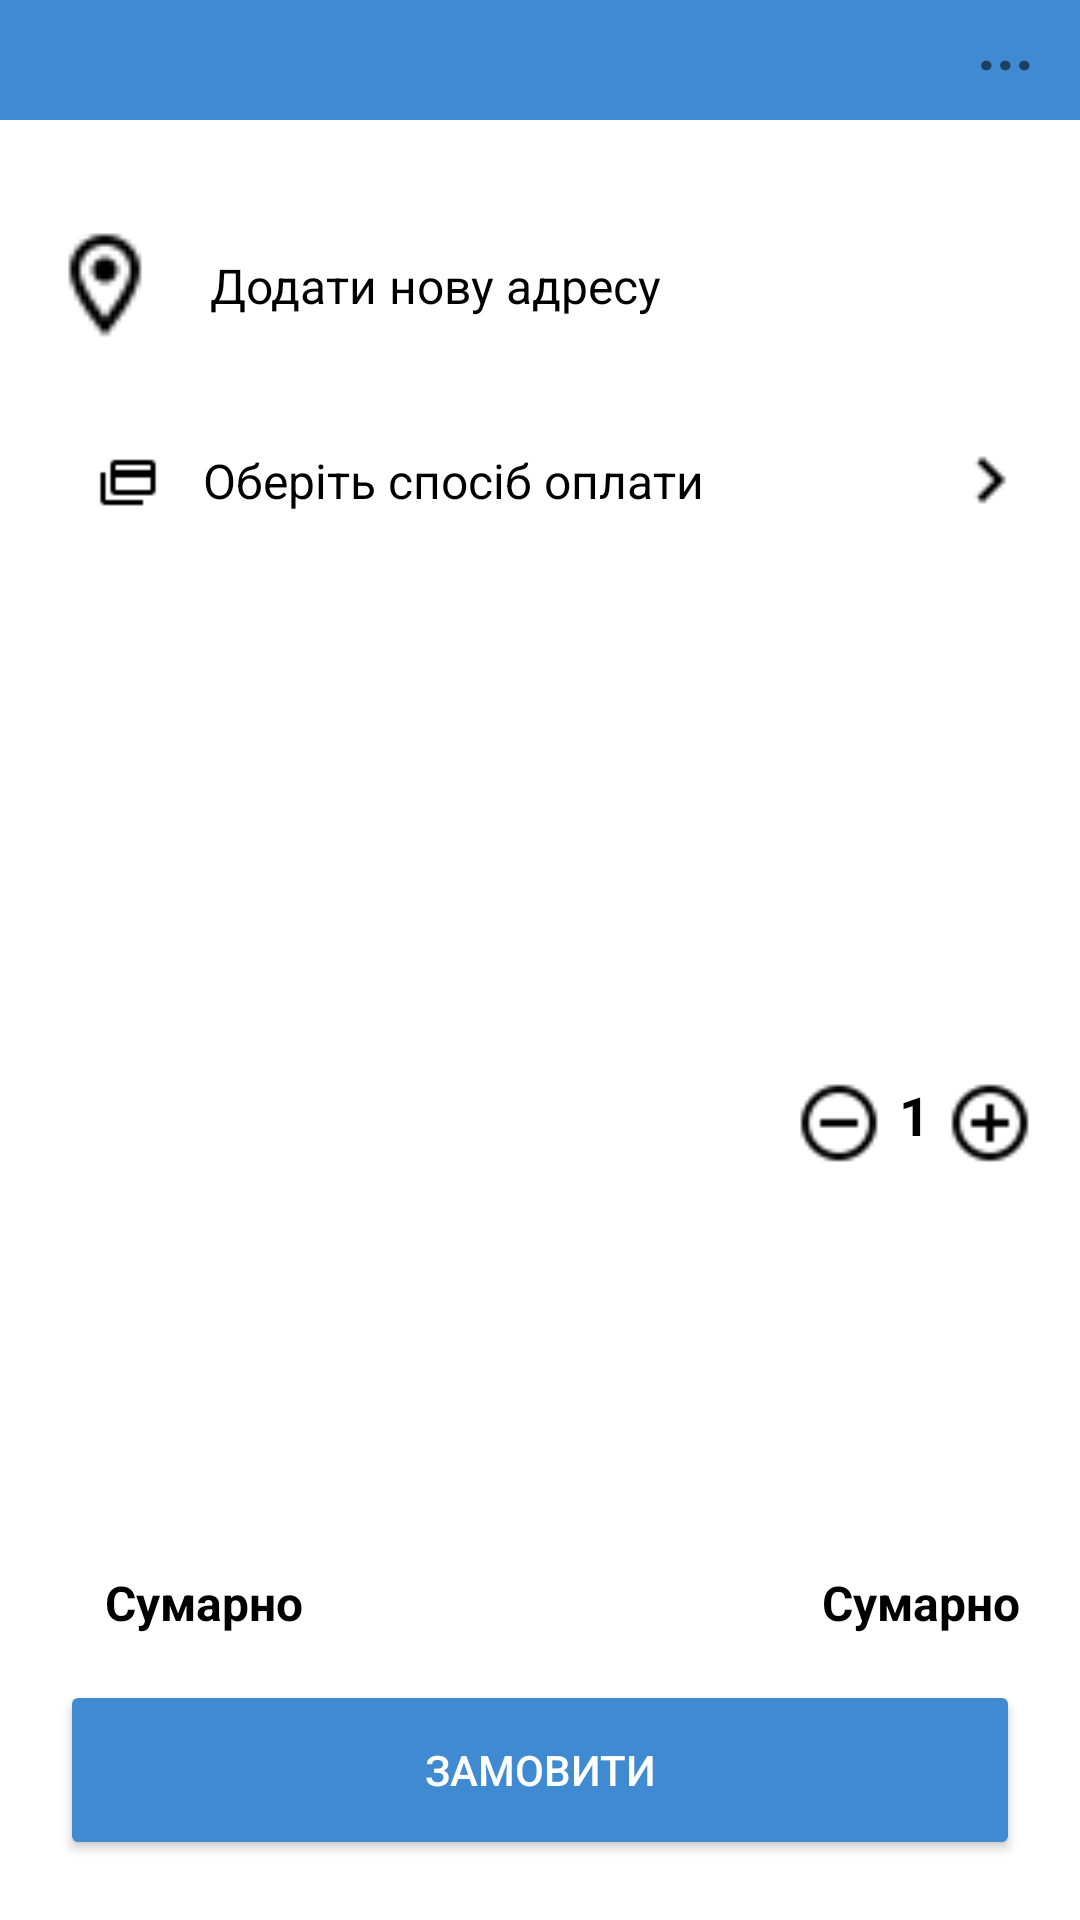

Icons on this 1080×1920 Android screen, each with the point to tap as (x,y):
minus circle: (839,1123)
plus circle: (990,1123)
